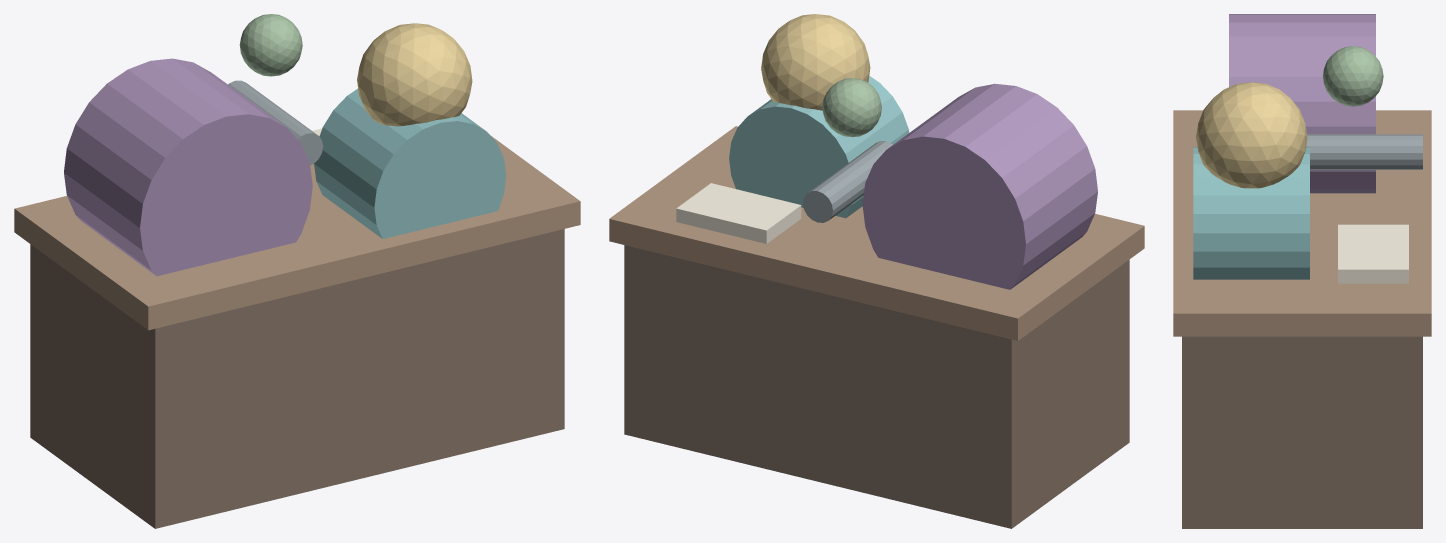
File: alchemy_station.glb
3 renders of one model, left to right at view 1: azimuth 30°, elevation 25°; view 2: azimuth 150°, elevation 25°; view 3: azimuth 270°, elevation 25°, orthographic. The views are drawn at different scales.
Visible parts, largest first — view 1: part_00, part_02, part_01, part_03, part_04, part_06, part_05; view 2: part_00, part_02, part_01, part_03, part_04, part_07, part_05, part_06; view 3: part_00, part_01, part_02, part_03, part_04, part_07, part_05, part_06.
Part boxes in pixels (box(x1,y1,x2,y2)): part_00: box(30, 229, 564, 528); part_02: box(64, 58, 312, 276); part_01: box(14, 135, 580, 330); part_03: box(314, 88, 506, 238); part_04: box(357, 23, 472, 126); part_06: box(239, 14, 302, 76); part_05: box(228, 80, 323, 165); part_00: box(624, 245, 1129, 528); part_02: box(862, 83, 1097, 289); part_01: box(609, 126, 1144, 340); part_03: box(729, 76, 909, 218); part_04: box(761, 14, 870, 110); part_07: box(676, 183, 801, 243); part_05: box(803, 141, 892, 222); part_06: box(822, 78, 881, 137); part_00: box(1182, 336, 1422, 528); part_01: box(1173, 110, 1431, 336); part_02: box(1229, 14, 1375, 193); part_03: box(1193, 147, 1309, 279); part_04: box(1196, 82, 1307, 188); part_07: box(1338, 224, 1408, 283); part_05: box(1306, 134, 1422, 169); part_06: box(1322, 46, 1383, 106).
Size of the model in its own units: 1.9 by 1.69 by 1.02.
